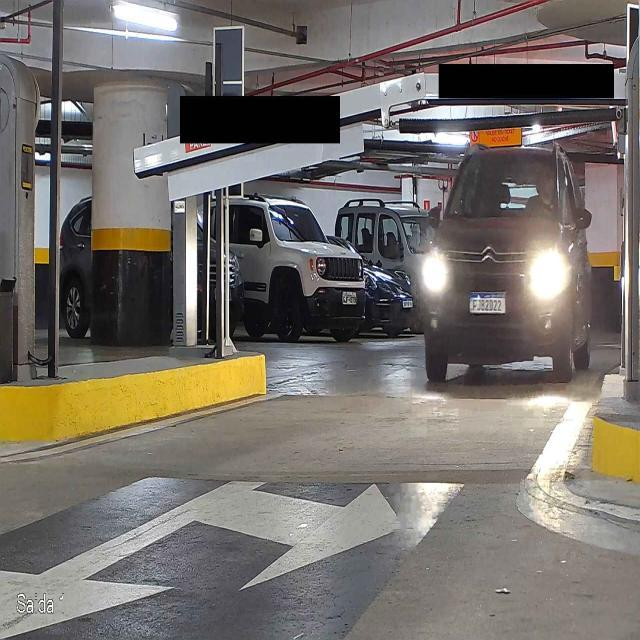mercosul_plate: (467, 290, 508, 316)
